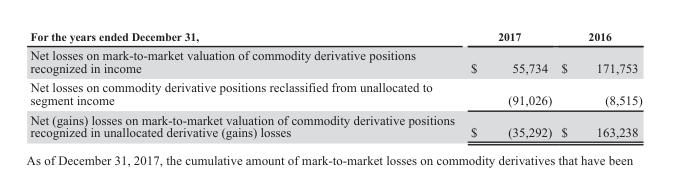table: (29, 29, 641, 139)
table column: (29, 29, 462, 139), (462, 29, 555, 139), (555, 29, 641, 139)
table column header: (29, 29, 641, 44)
table row: (29, 44, 641, 77), (29, 77, 641, 109), (29, 109, 641, 139), (29, 29, 641, 44)
